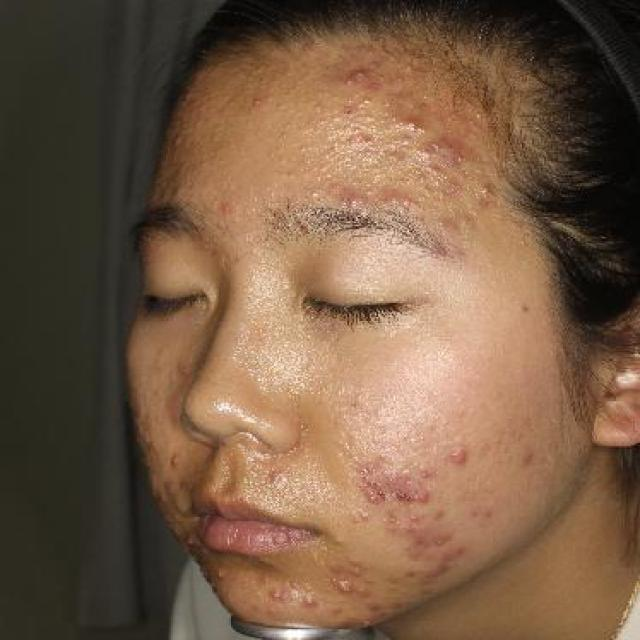papules: (448, 443, 474, 469)
pustules: (159, 448, 187, 469), (395, 116, 423, 136), (178, 531, 200, 549), (339, 71, 361, 89), (334, 582, 356, 598), (479, 181, 500, 197), (174, 358, 192, 376), (418, 489, 437, 505), (250, 96, 269, 112), (354, 66, 372, 80), (373, 449, 390, 463), (209, 568, 226, 582), (303, 595, 318, 608), (366, 492, 380, 505), (406, 512, 419, 526), (359, 615, 373, 628), (435, 535, 448, 548), (402, 525, 414, 537)
whiteheads: (479, 180, 495, 192), (342, 94, 358, 106), (318, 161, 332, 174), (298, 143, 310, 155), (329, 149, 342, 160), (386, 142, 398, 152), (408, 168, 420, 178), (386, 163, 398, 172), (304, 140, 315, 149), (361, 95, 373, 103), (352, 150, 364, 158), (341, 125, 354, 132), (313, 126, 322, 136), (347, 135, 358, 143), (334, 138, 342, 148), (337, 159, 347, 166), (325, 128, 334, 135), (354, 126, 361, 134), (346, 162, 354, 169)
